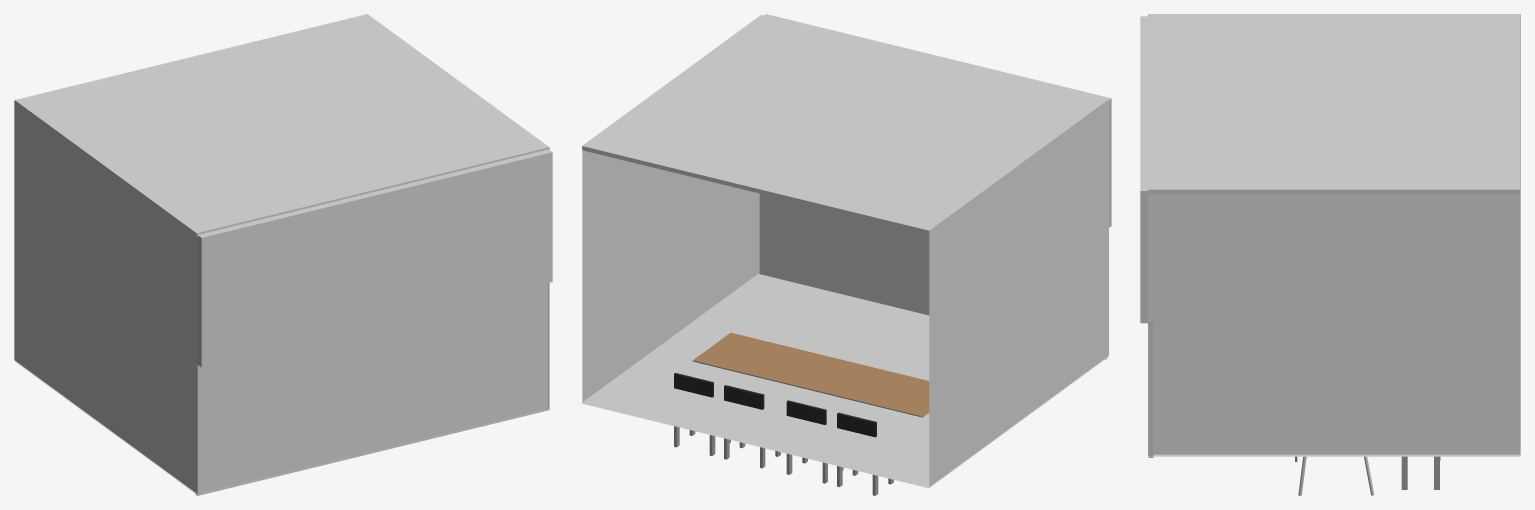
The model's file is 강의실 내부.fbx.
The picture shows the model from 3 angles, left to right: view 1: azimuth 30°, elevation 25°; view 2: azimuth 150°, elevation 25°; view 3: azimuth 270°, elevation 25°; orthographic projection. The views are drawn at different scales.
Visible parts, largest first — view 1: pCube35; view 2: pCube35, pCube13, polySurface11, polySurface9, polySurface10, polySurface7; view 3: pCube35, polySurface7.
Part boxes in pixels (x1,y1,x2,y2): pCube35: (14,14,552,495); pCube35: (581,14,1111,488); pCube13: (693,332,929,416); polySurface11: (837,412,893,495); polySurface9: (724,385,780,468); polySurface10: (786,400,843,483); polySurface7: (674,373,730,455); pCube35: (1140,14,1520,457); polySurface7: (1401,456,1440,489).
Size of the model in its own units: 4.67 by 4.06 by 4.26.
